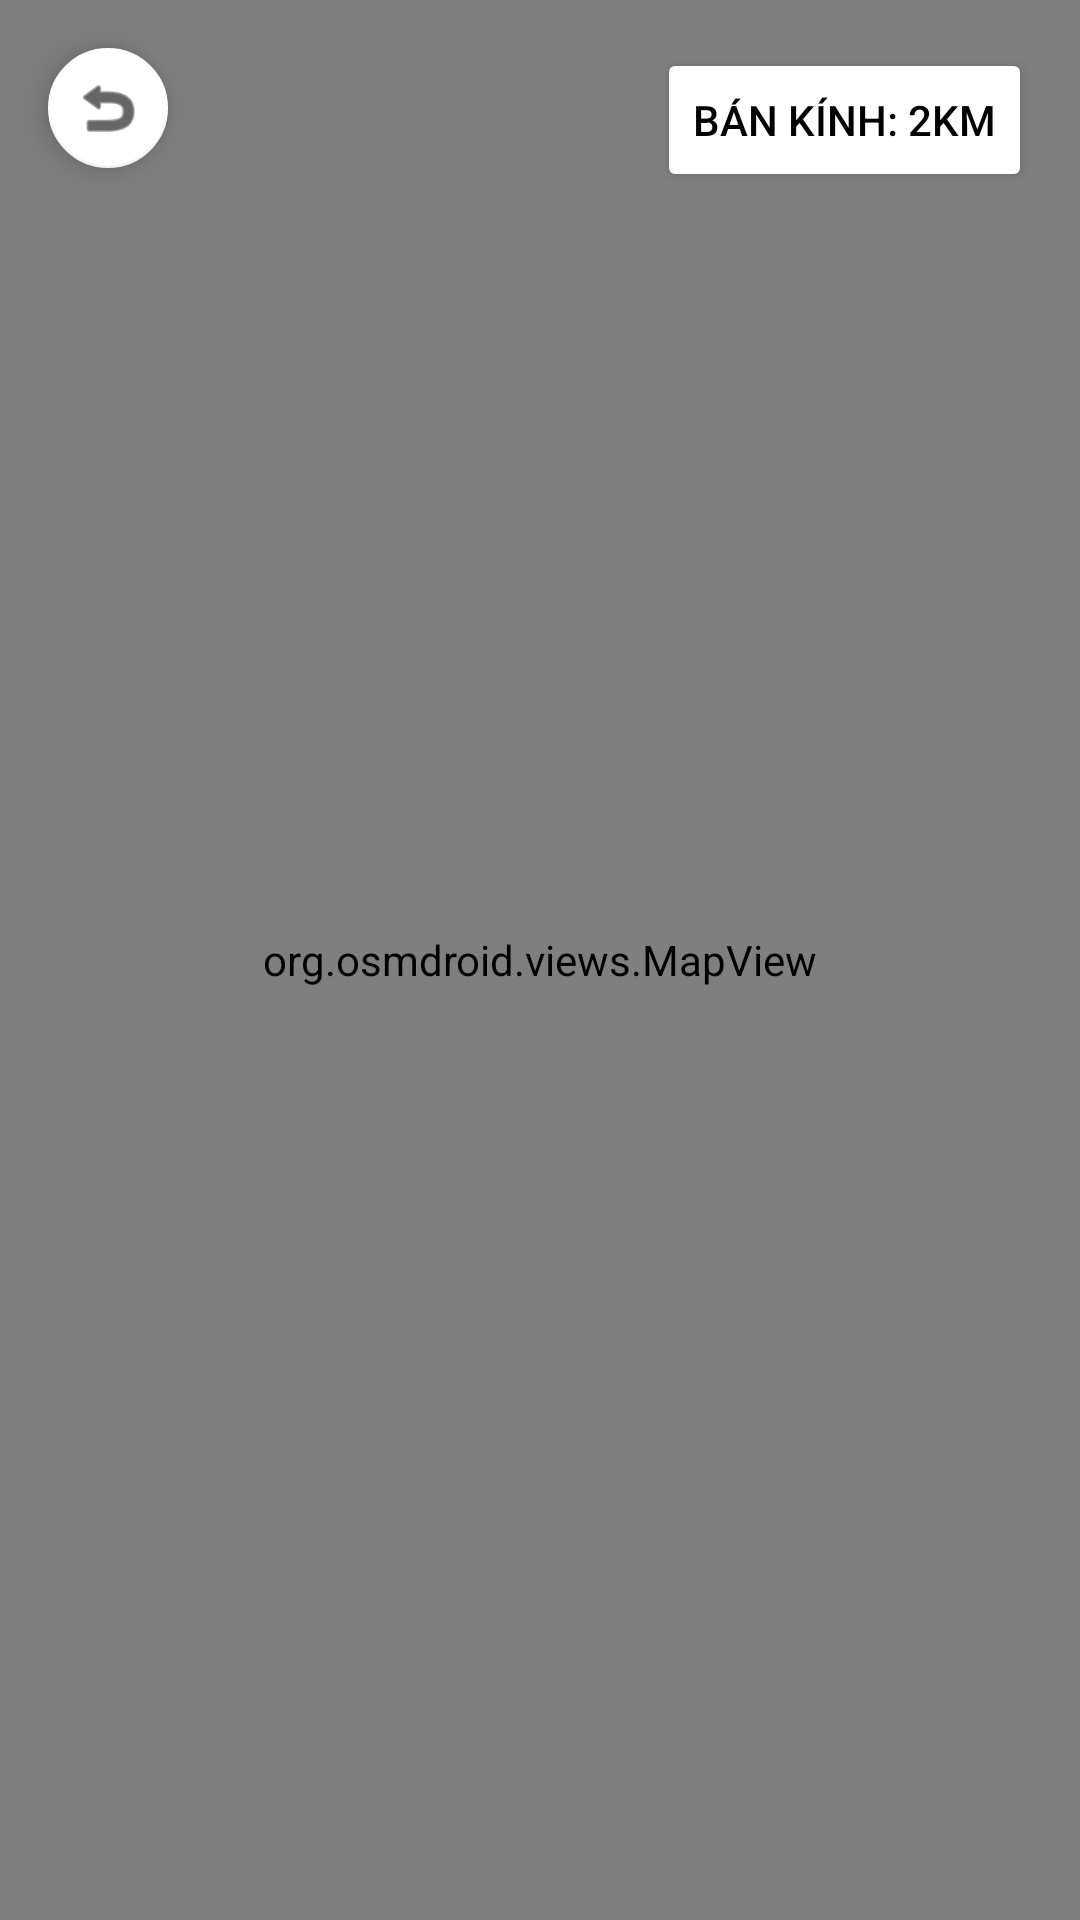

Icon click points for this 1080 × 1920 phone screenshot, format [x,y]:
revert: [108,108]
